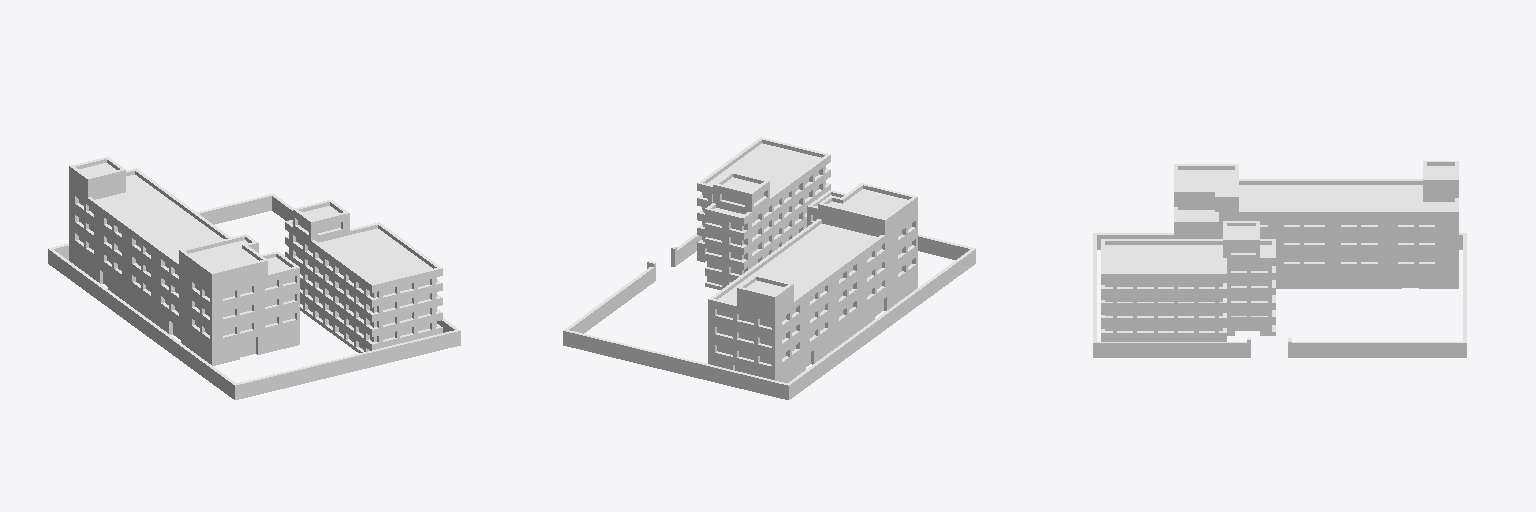
File: RedHouse.obj
3 renders of one model, left to right at view 1: azimuth 30°, elevation 25°; view 2: azimuth 150°, elevation 25°; view 3: azimuth 270°, elevation 25°, orthographic.
Size of the model in its own units: 65 by 26 by 92.